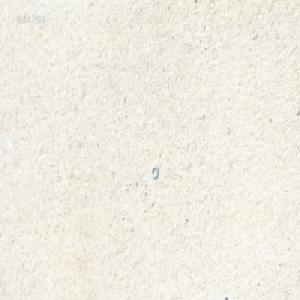Washer: (151, 163, 158, 178)
